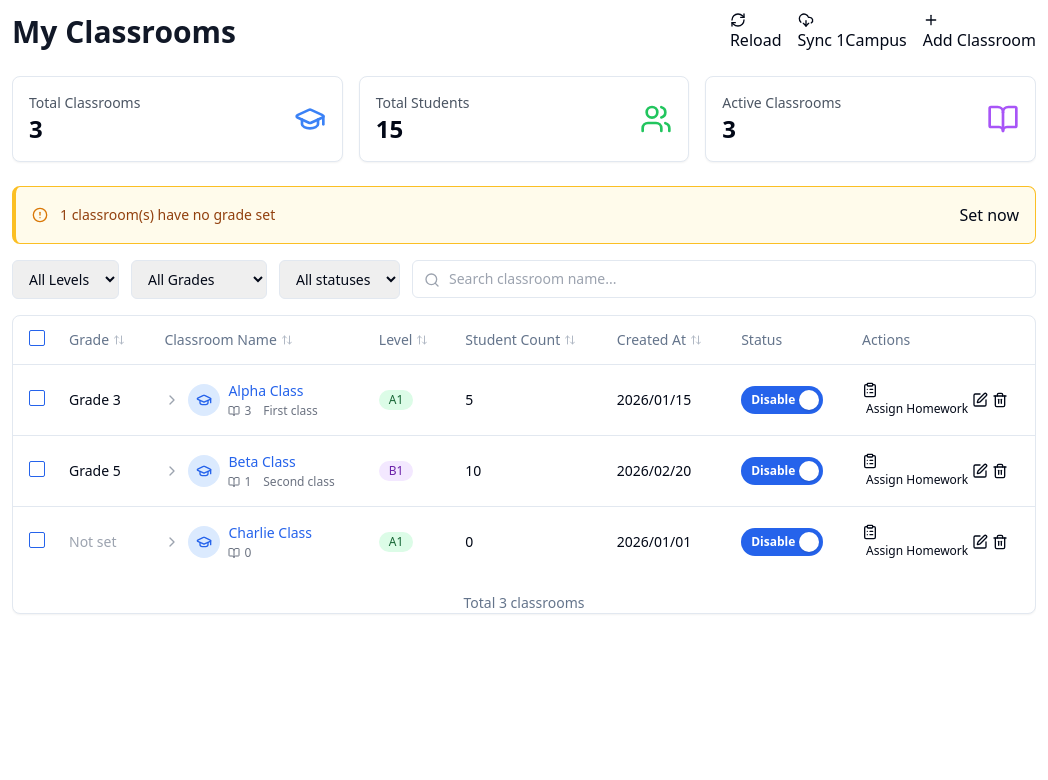
Scenario: TeacherClassrooms › Expandable Rows › should expand row details on click
Click the row that starts with "Grade 3" at (524,400), box [13,364,1035,435]
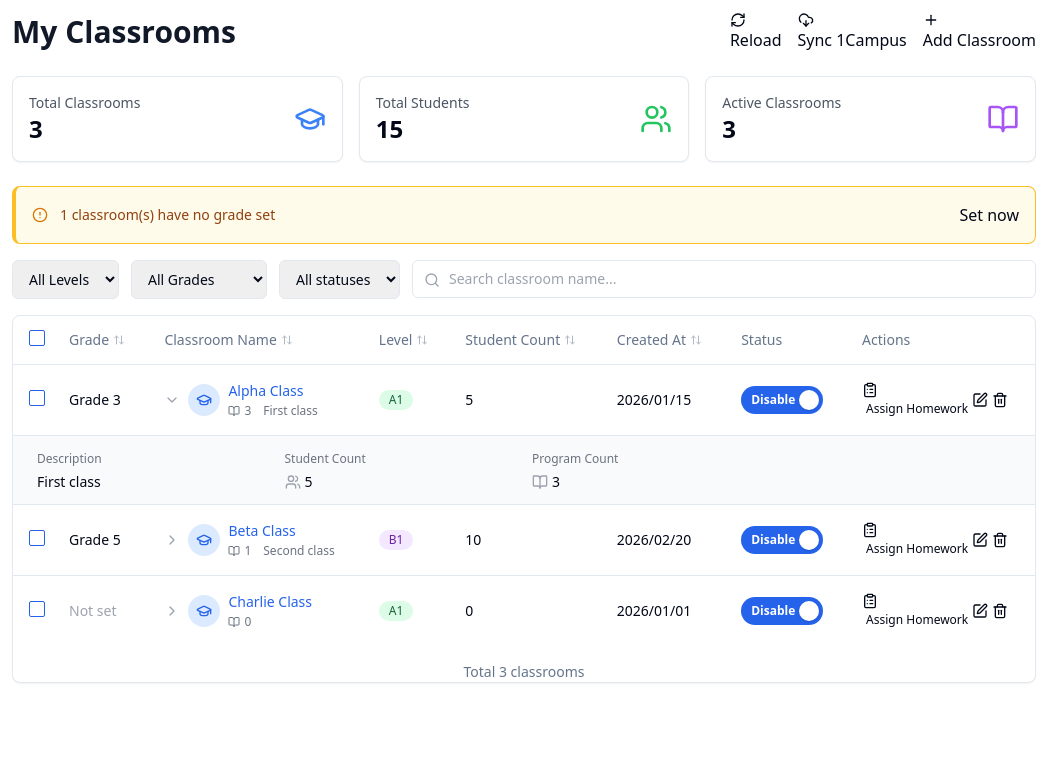
Expected: the text "Description" is shown, [37,450,102,466]
